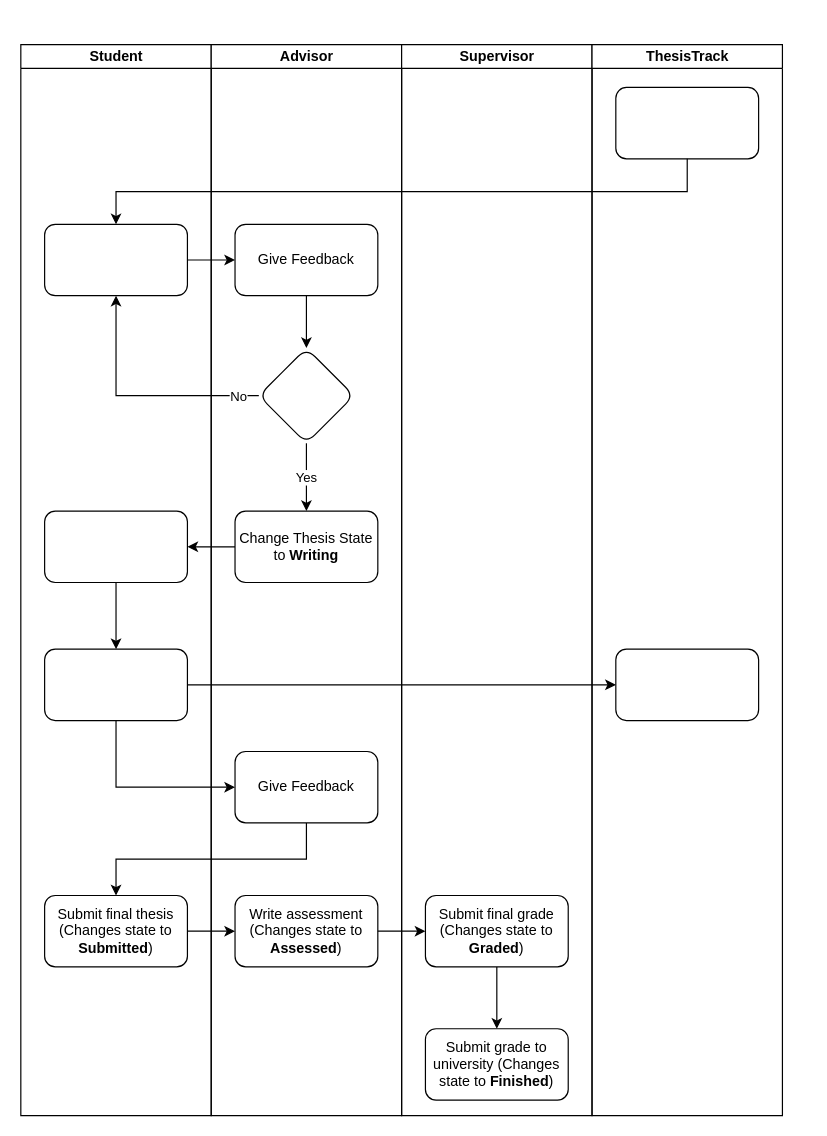
Some shapes in this 827 by 1136 pixel diagram are drawn without their labels. The shapes that lost their labels are listed below. From the top down, each one's centre as x and y in pixels, then its label:
At point 687,122: "Create thesis with state Proposal".
At point 115,259: "Write proposal".
At point 306,395: "Sufficient".
At point 115,546: "Write Thesis".
At point 115,684: "Present Thesis".
At point 687,684: "Invite students to presentation".
